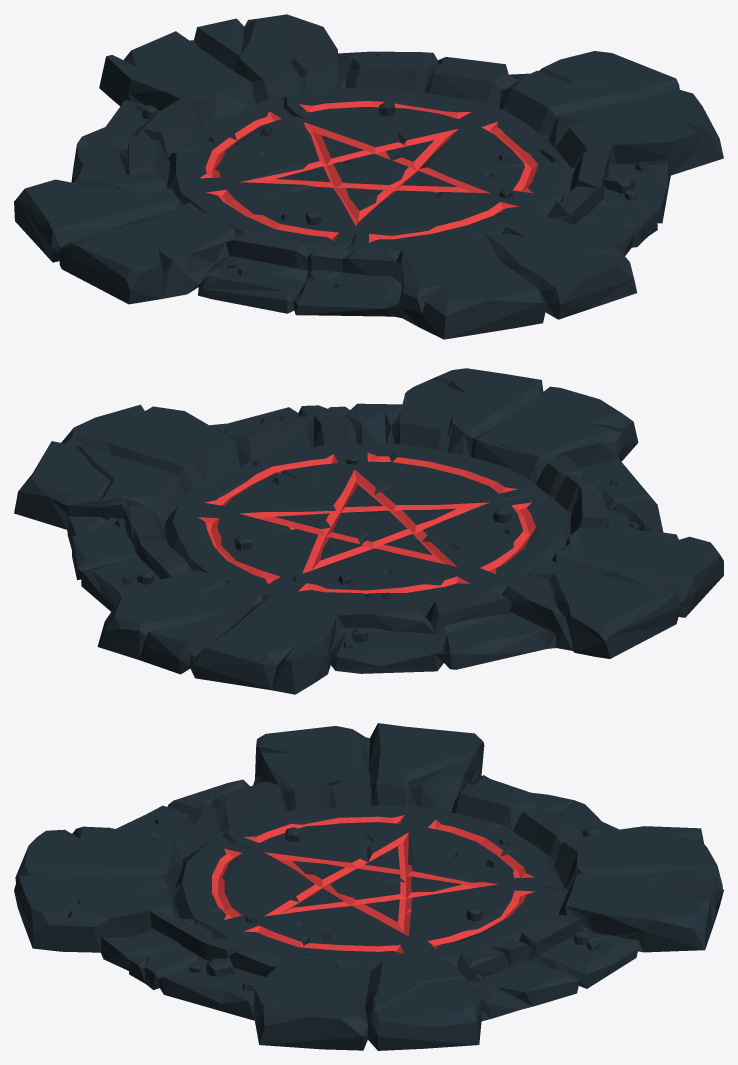
Rendered from RitualCircle.fbx.
The picture shows the model from 3 angles, top to bottom: view 1: azimuth 30°, elevation 25°; view 2: azimuth 150°, elevation 25°; view 3: azimuth 270°, elevation 25°; orthographic projection. The views are drawn at different scales.
Parts seen in each view (by area): view 1: Ritual_circle.001; view 2: Ritual_circle.001; view 3: Ritual_circle.001.
Boxes of the visible parts, box(x1,y1,x2,y2) form: Ritual_circle.001: box(14, 14, 723, 339); Ritual_circle.001: box(14, 368, 723, 694); Ritual_circle.001: box(14, 723, 723, 1050).
Bounding box in the file's own units: 1245 × 73.55 × 1246.
